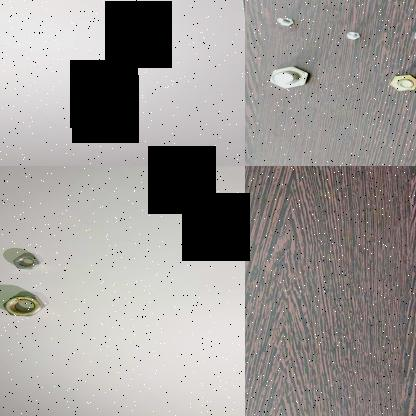Bolts: (266, 61, 316, 88), (383, 68, 416, 94), (270, 13, 299, 30), (344, 27, 362, 39), (406, 24, 416, 44)
NUTS: (0, 289, 44, 319), (13, 250, 42, 272)
